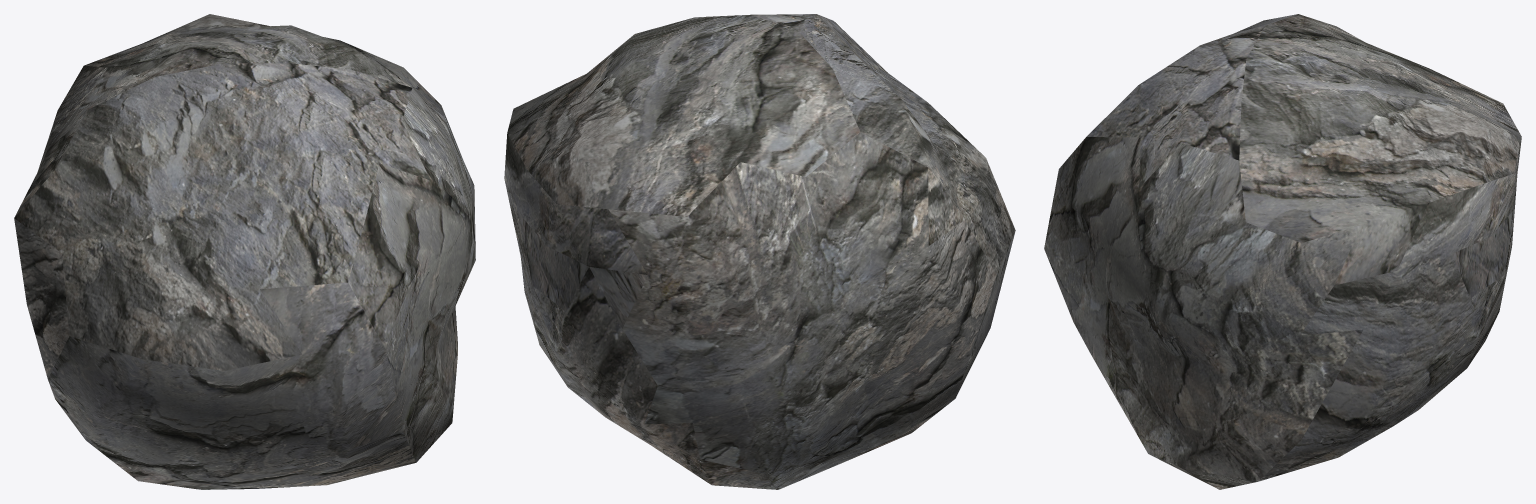
File: kivi1.fbx
3 views of the same model, side by side, from view 1: azimuth 30°, elevation 25°; view 2: azimuth 150°, elevation 25°; view 3: azimuth 270°, elevation 25° (orthographic). The views are drawn at different scales.
Visible parts, largest first — view 1: Icosphere; view 2: Icosphere; view 3: Icosphere.
Boxes of the visible parts, x1,y1,x2,y2 form: Icosphere: [14, 14, 475, 489]; Icosphere: [504, 14, 1015, 489]; Icosphere: [1044, 14, 1521, 489].
Bounding box in the file's own units: 2.81 × 2.75 × 2.91.
